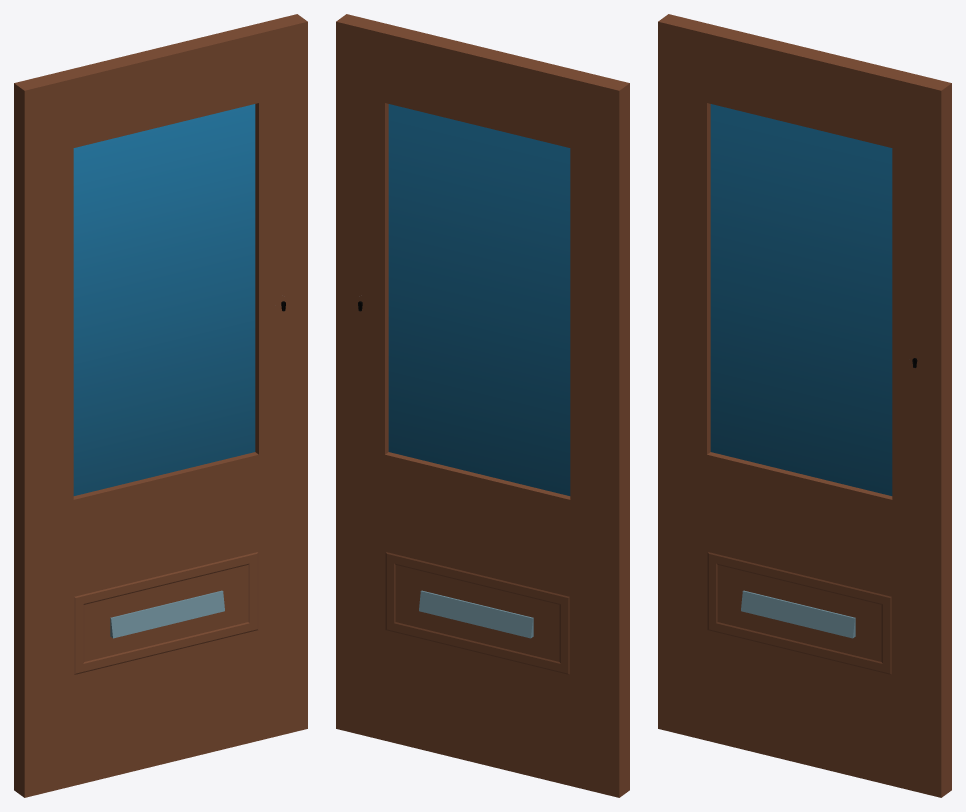
Rendered from Door07.fbx.
3 renders of one model, left to right at view 1: azimuth 30°, elevation 25°; view 2: azimuth 150°, elevation 25°; view 3: azimuth 330°, elevation 25°, orthographic.
Visible parts, largest first — view 1: Door07; view 2: Door07; view 3: Door07.
Boxes of the visible parts, x1,y1,x2,y2 form: Door07: (14,14,307,797); Door07: (336,14,629,797); Door07: (658,14,951,797).
Size of the model in its own units: 78 by 186 by 7.75.
